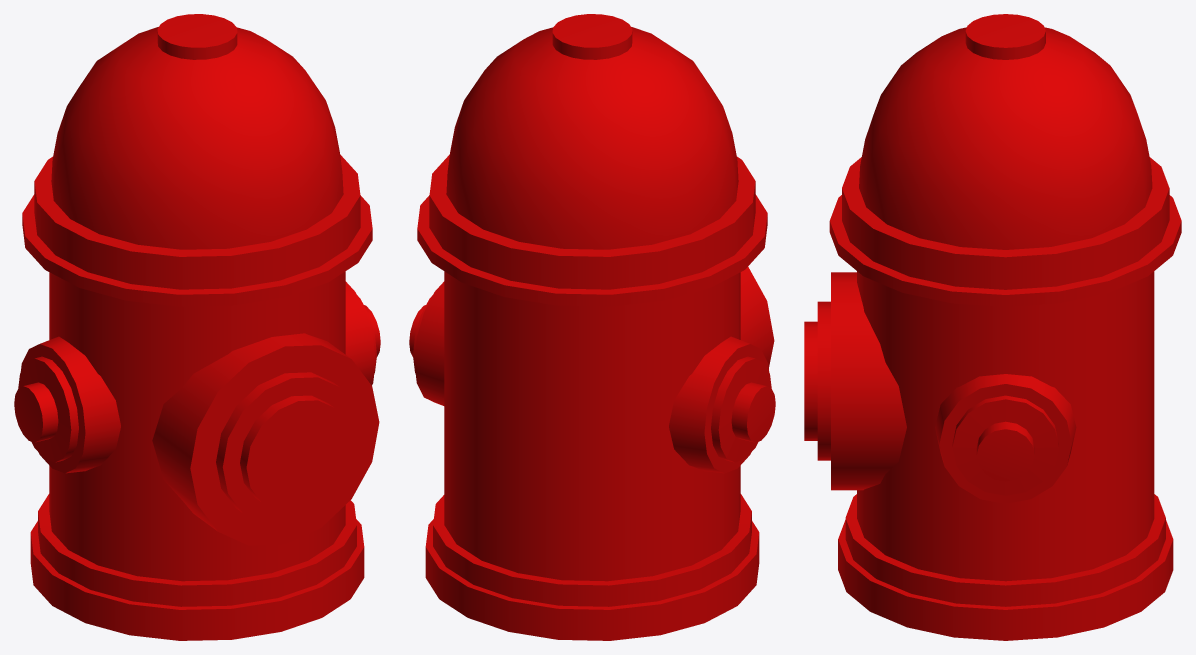
The model's file is hydrant.fbx.
The picture shows the model from 3 angles, left to right: view 1: azimuth 30°, elevation 25°; view 2: azimuth 150°, elevation 25°; view 3: azimuth 270°, elevation 25°; orthographic projection.
Parts seen in each view (by area): view 1: hydrant_mesh; view 2: hydrant_mesh; view 3: hydrant_mesh.
Boxes of the visible parts, x1,y1,x2,y2 form: hydrant_mesh: (14,14,380,640); hydrant_mesh: (409,14,775,640); hydrant_mesh: (804,14,1181,640).
Bounding box in the file's own units: 2.11 × 3.2 × 2.03.
